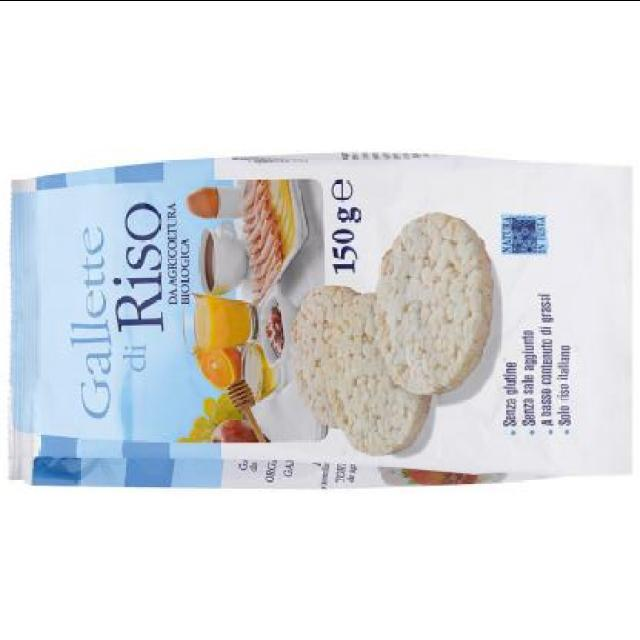Gallette di riso: (4, 141, 640, 503)
